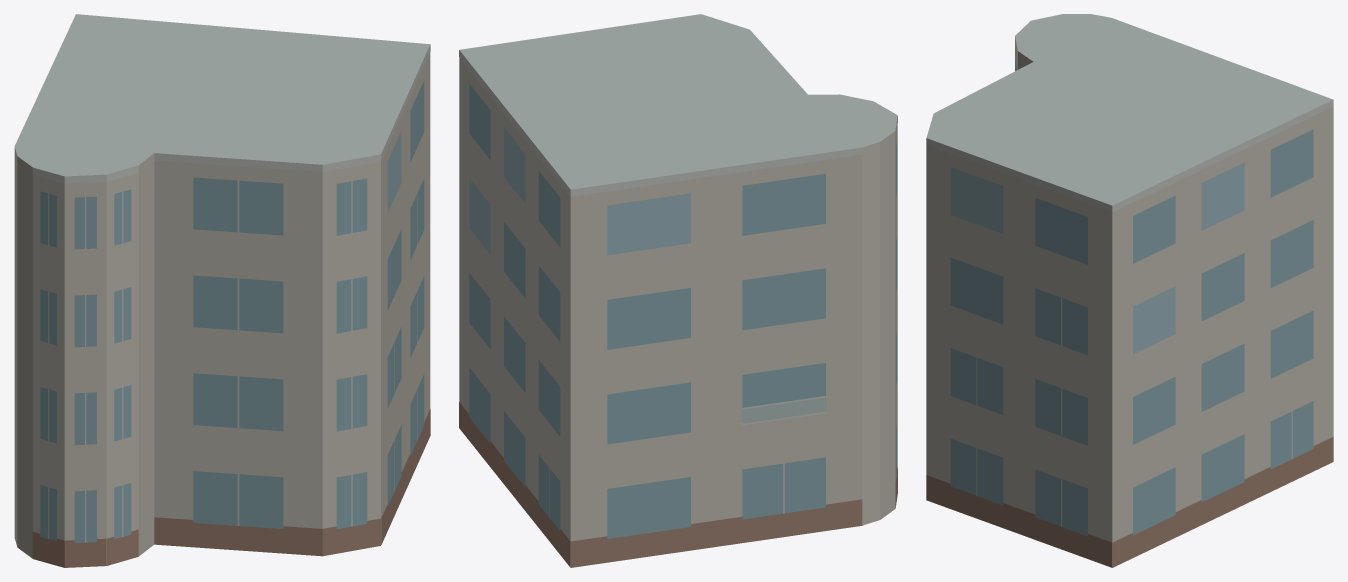
Rendered from survey-upis-32526215.glb.
3 renders of one model, left to right at view 1: azimuth 30°, elevation 25°; view 2: azimuth 150°, elevation 25°; view 3: azimuth 270°, elevation 25°, orthographic. The views are drawn at different scales.
Visible parts, largest first — view 1: survey-upis-32526215.tmp; view 2: survey-upis-32526215.tmp; view 3: survey-upis-32526215.tmp.
Part boxes in pixels (left/top/right/bottom): survey-upis-32526215.tmp: left=14, top=14, right=430, bottom=567; survey-upis-32526215.tmp: left=459, top=14, right=897, bottom=567; survey-upis-32526215.tmp: left=926, top=14, right=1333, bottom=567.
Size of the model in its own units: 14.65 by 12.9 by 13.15.
